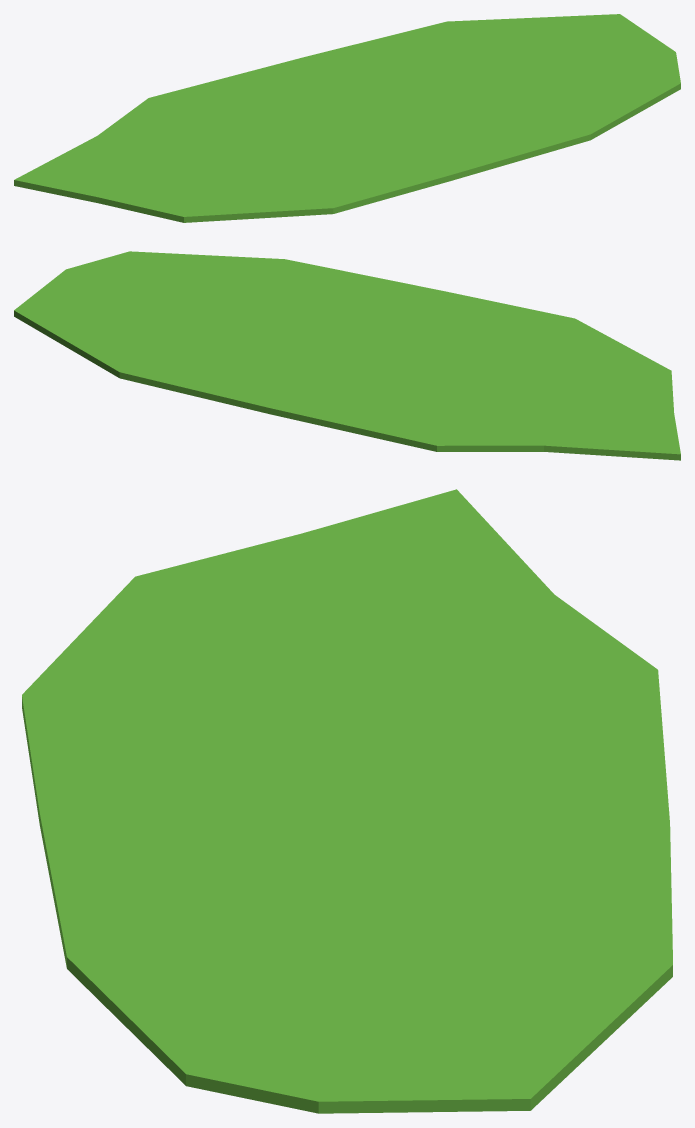
The picture shows the model from 3 angles, top to bottom: view 1: azimuth 30°, elevation 25°; view 2: azimuth 150°, elevation 25°; view 3: azimuth 270°, elevation 25°; orthographic projection. The views are drawn at different scales.
Visible parts, largest first — view 1: Patch; view 2: Patch; view 3: Patch.
Boxes of the visible parts, bbox=[...] form: Patch: bbox=[14, 14, 680, 222]; Patch: bbox=[14, 251, 680, 460]; Patch: bbox=[22, 489, 672, 1113].
Bounding box in the file's own units: 13.2 × 0.12 × 5.93.
